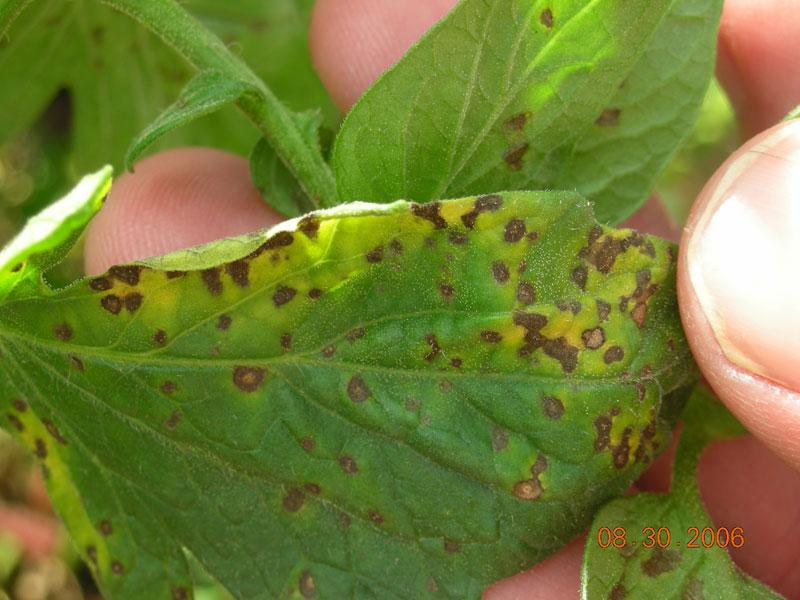Bell_pepper leaf: (21, 206, 688, 580)
